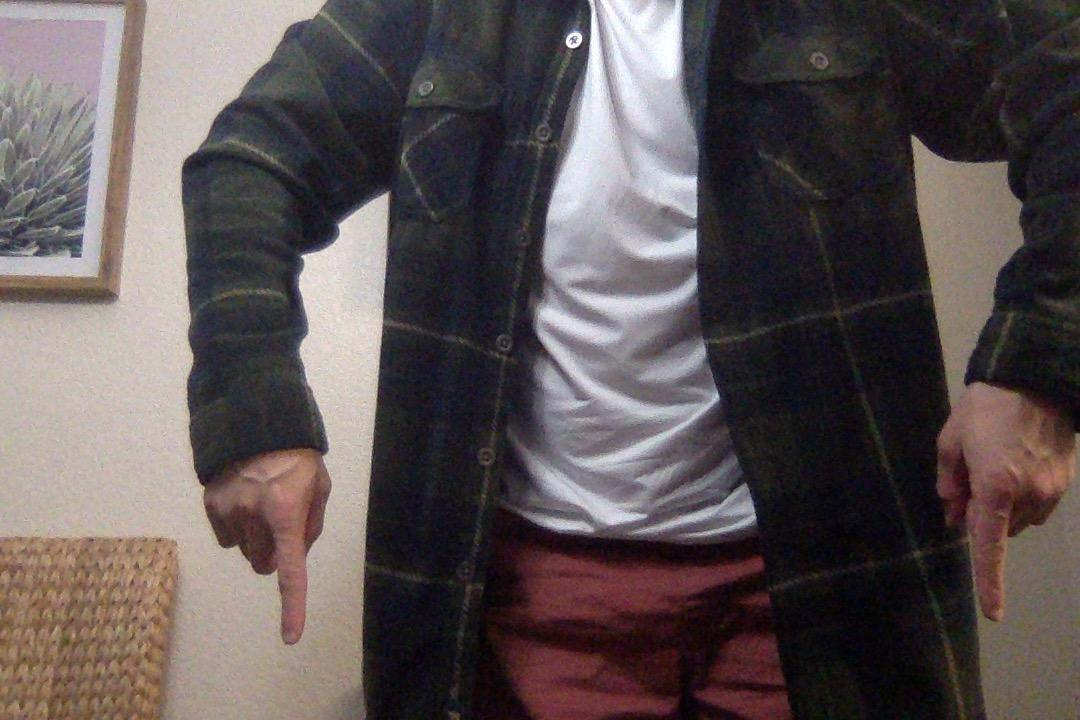Point-Down: (925, 385, 1080, 630), (188, 443, 350, 641)
